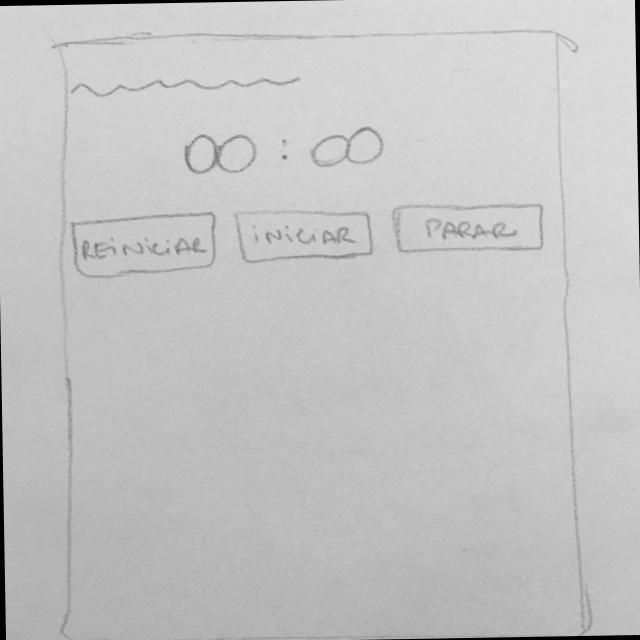button: (70, 209, 224, 281), (392, 199, 554, 261), (233, 207, 380, 263)
container: (43, 23, 605, 640)
label: (172, 122, 399, 184)
text: (69, 67, 321, 98)
